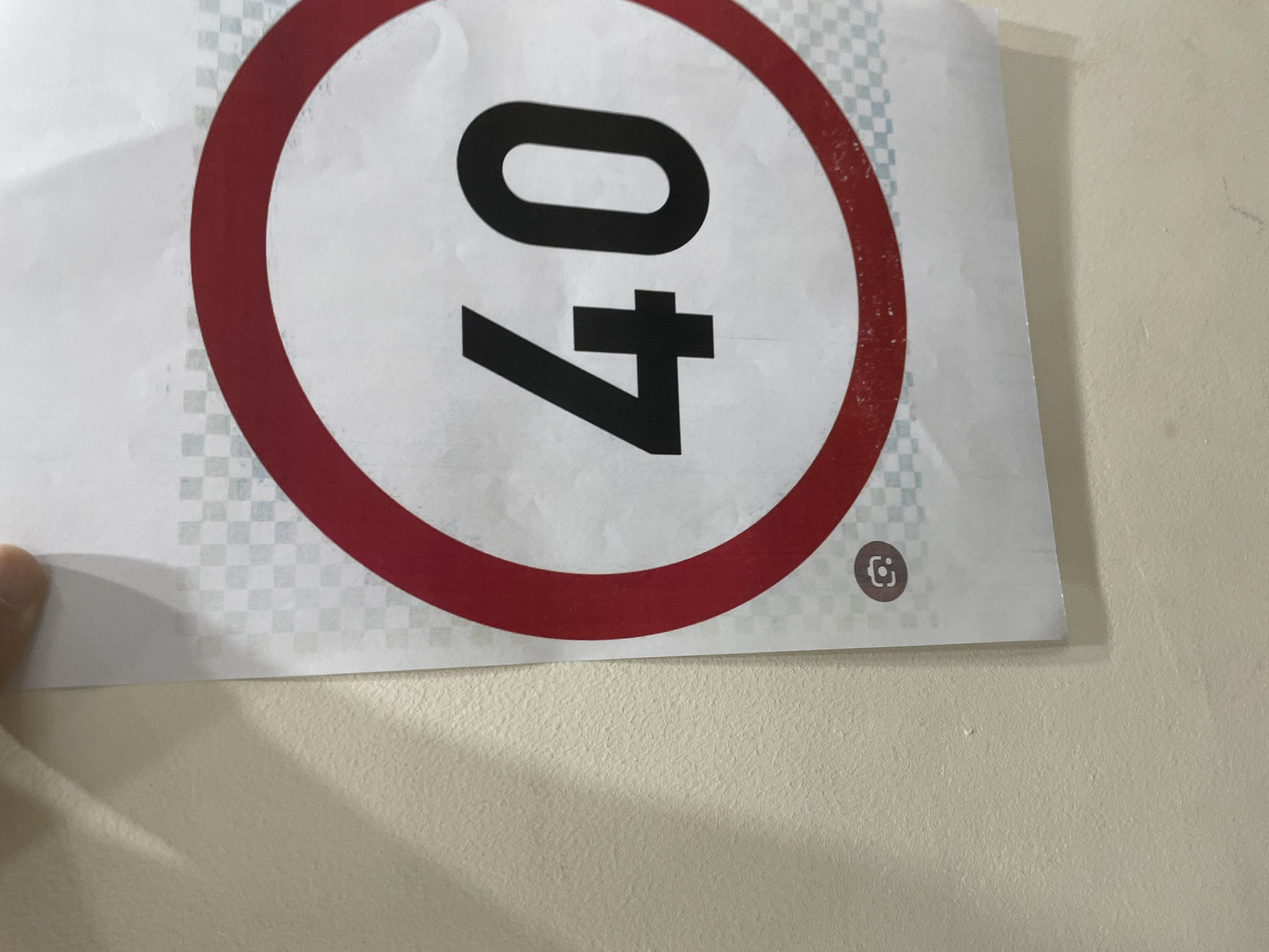40-Speed: (408, 142, 1269, 689)
